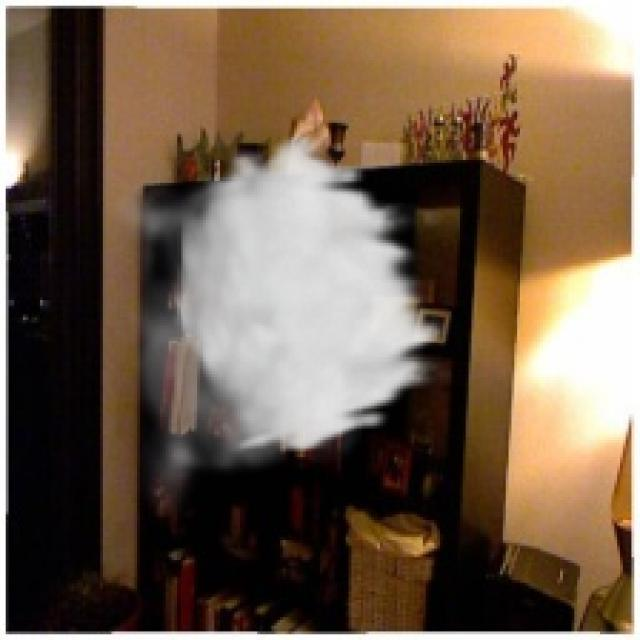Smoke: (106, 131, 452, 523)
